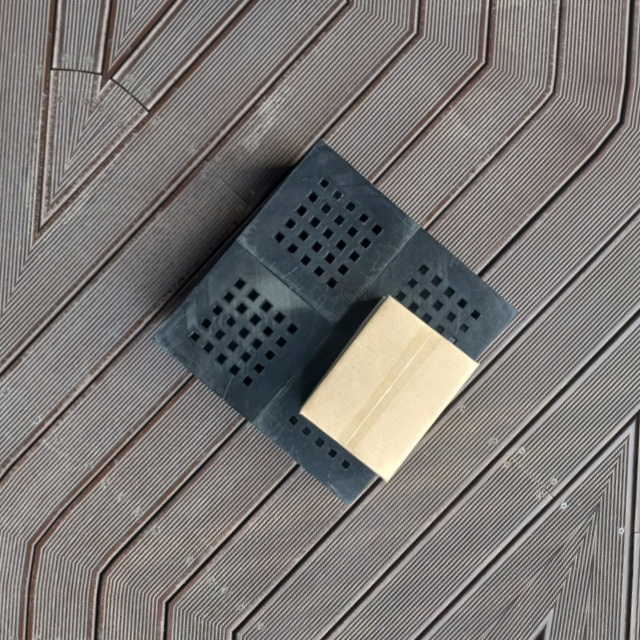box: (292, 286, 485, 492)
pallet: (150, 139, 520, 507)
